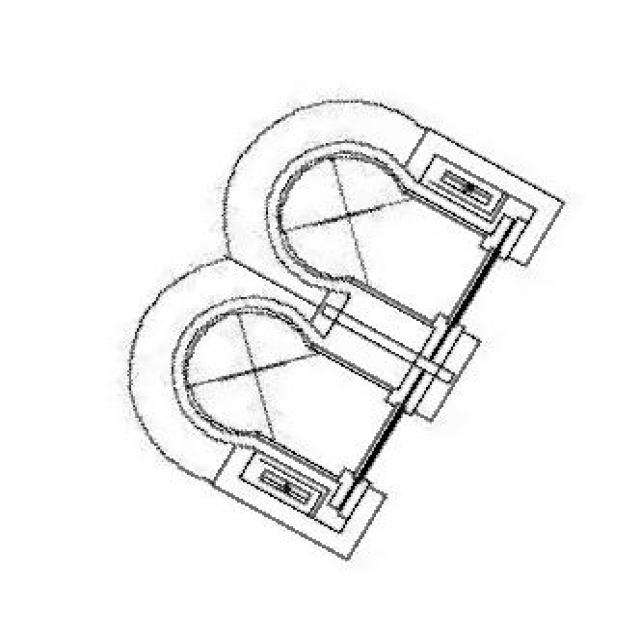lift: (123, 99, 563, 552)
